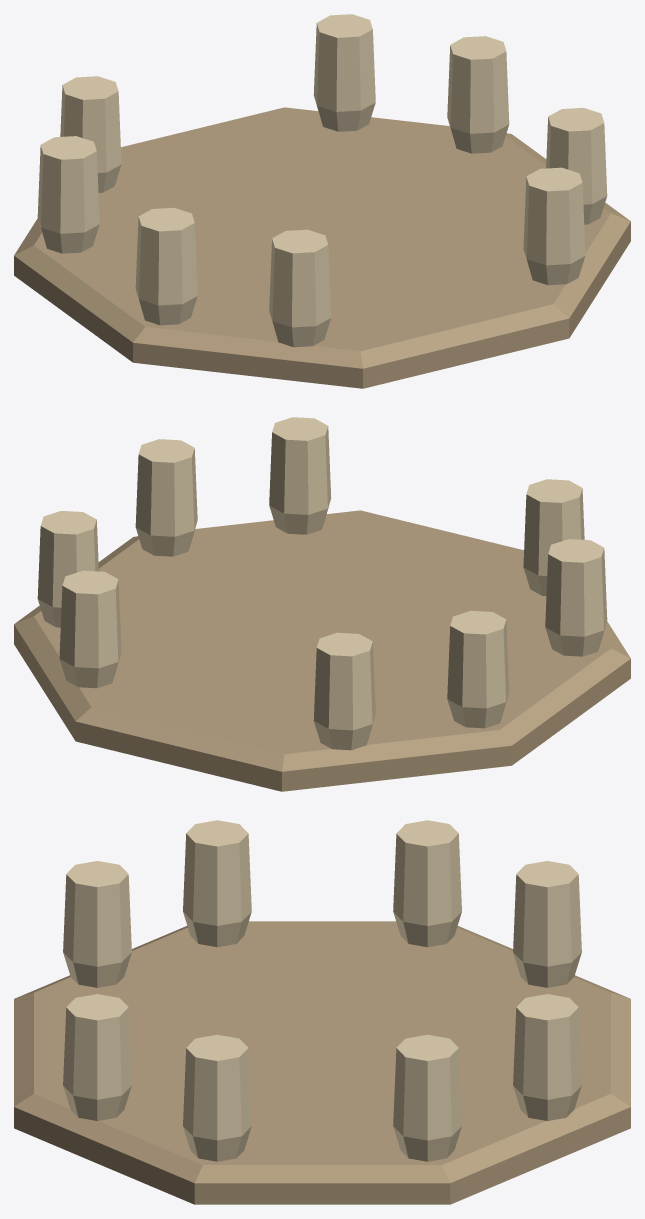
Rendered from Royal_Pavilion.fbx.
The picture shows the model from 3 angles, top to bottom: view 1: azimuth 30°, elevation 25°; view 2: azimuth 150°, elevation 25°; view 3: azimuth 270°, elevation 25°; orthographic projection. The views are drawn at different scales.
Visible parts, largest first — view 1: OpenBuildings_Royal_Pavilion; view 2: OpenBuildings_Royal_Pavilion; view 3: OpenBuildings_Royal_Pavilion.
Boxes of the visible parts, <box> form: OpenBuildings_Royal_Pavilion: <box>14,14,630,388</box>; OpenBuildings_Royal_Pavilion: <box>14,417,630,791</box>; OpenBuildings_Royal_Pavilion: <box>14,820,630,1204</box>.
Size of the model in its own units: 5.73 by 1.37 by 5.73.
